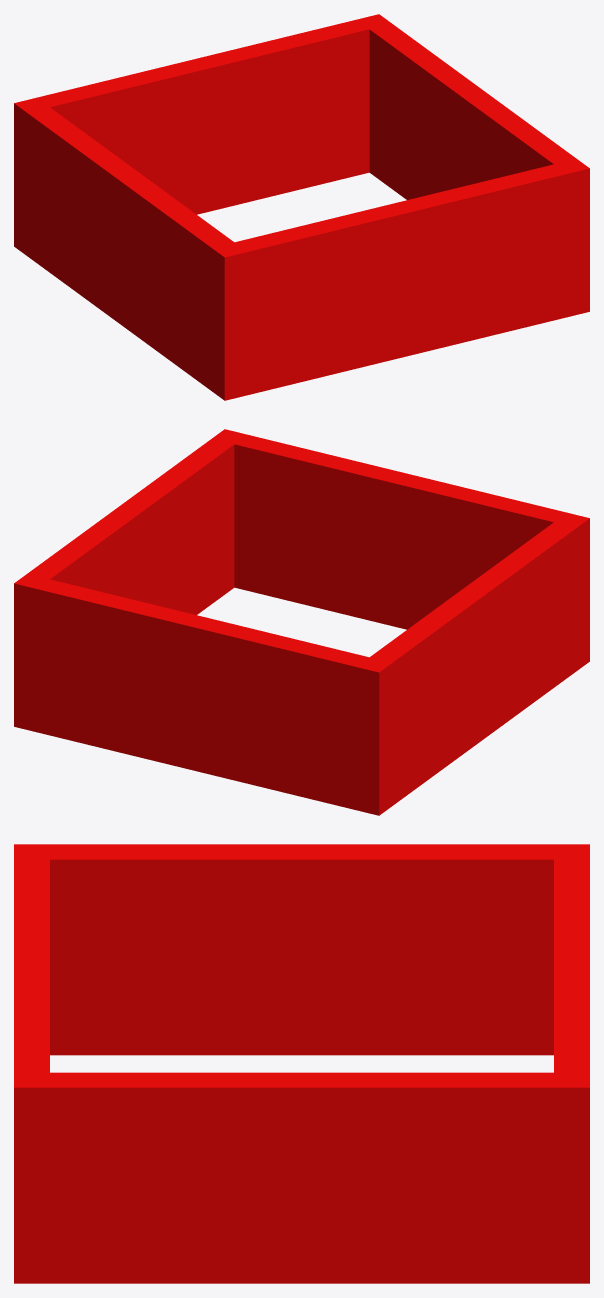
File: CubeBase-2-13-6.fbx
3 views of the same model, one above another, from view 1: azimuth 30°, elevation 25°; view 2: azimuth 150°, elevation 25°; view 3: azimuth 270°, elevation 25° (orthographic). The views are drawn at different scales.
Parts seen in each view (by area): view 1: Model; view 2: Model; view 3: Model.
Boxes of the visible parts, box(x1,y1,x2,y2) form: Model: box(14, 14, 589, 400); Model: box(14, 429, 589, 815); Model: box(14, 844, 589, 1283).
Bounding box in the file's own units: 6.3 × 2.36 × 6.3.
